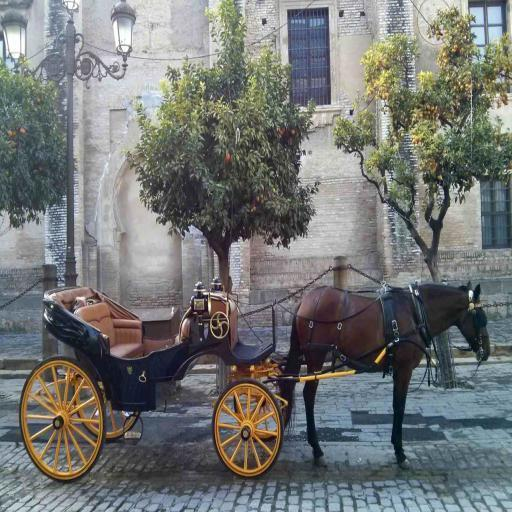horse: (278, 280, 490, 469)
